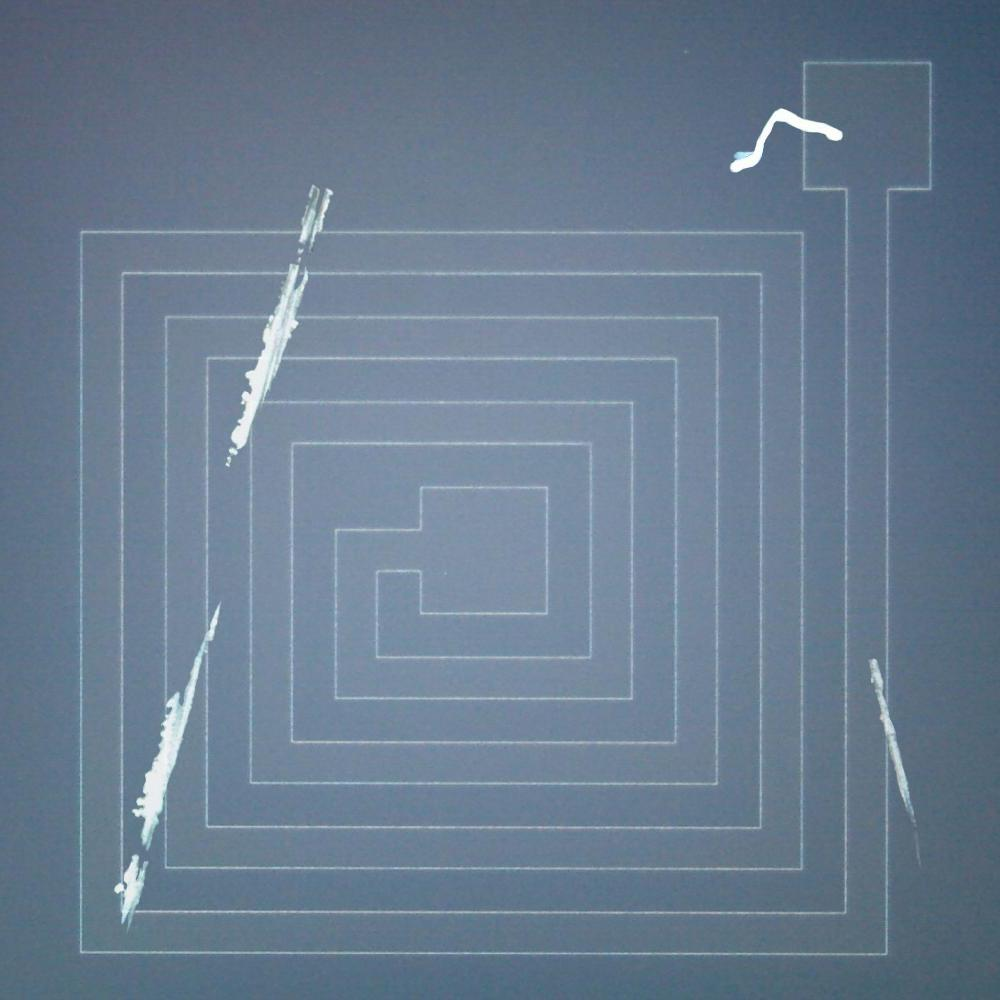line: (720, 97, 849, 183)
scratch: (106, 595, 232, 936), (216, 176, 342, 477), (861, 653, 925, 850)
